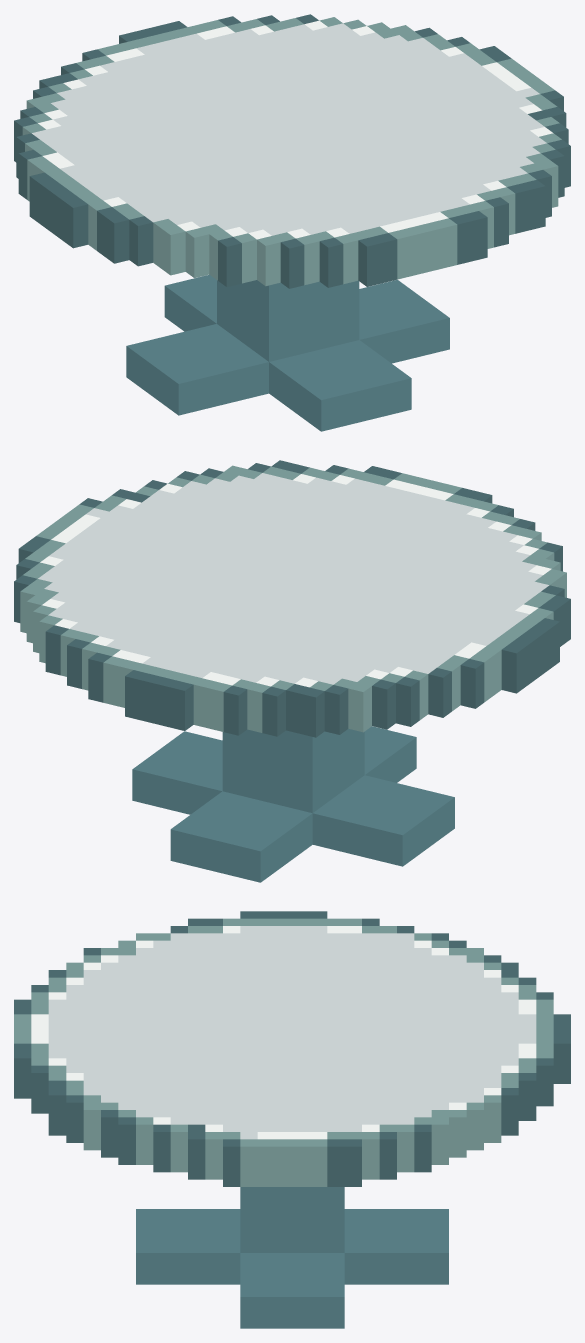
Rendered from roundtable-pixel-v2.glb.
3 renders of one model, top to bottom at view 1: azimuth 30°, elevation 25°; view 2: azimuth 150°, elevation 25°; view 3: azimuth 270°, elevation 25°, orthographic.
Parts seen in each view (by area): view 1: MistTop, Pedestal, Outline, TealRim, InsetLine; view 2: MistTop, Pedestal, Outline, TealRim, InsetLine; view 3: MistTop, Pedestal, TealRim, Outline, InsetLine.
Part boxes in pixels (box(x1,y1,x2,y2)): MistTop: box(32, 23, 546, 235); Pedestal: box(126, 274, 449, 431); Outline: box(14, 14, 570, 288); TealRim: box(22, 17, 561, 286); InsetLine: box(38, 20, 553, 239); MistTop: box(38, 473, 549, 684); Pedestal: box(132, 726, 454, 882); Outline: box(14, 460, 570, 737); TealRim: box(20, 465, 566, 732); InsetLine: box(40, 474, 551, 687); MistTop: box(48, 926, 536, 1139); Pedestal: box(136, 1187, 448, 1328); TealRim: box(14, 918, 553, 1186); Outline: box(14, 911, 570, 1186); InsetLine: box(31, 926, 536, 1139).
Size of the model in its own units: 2 by 0.925 by 2.
